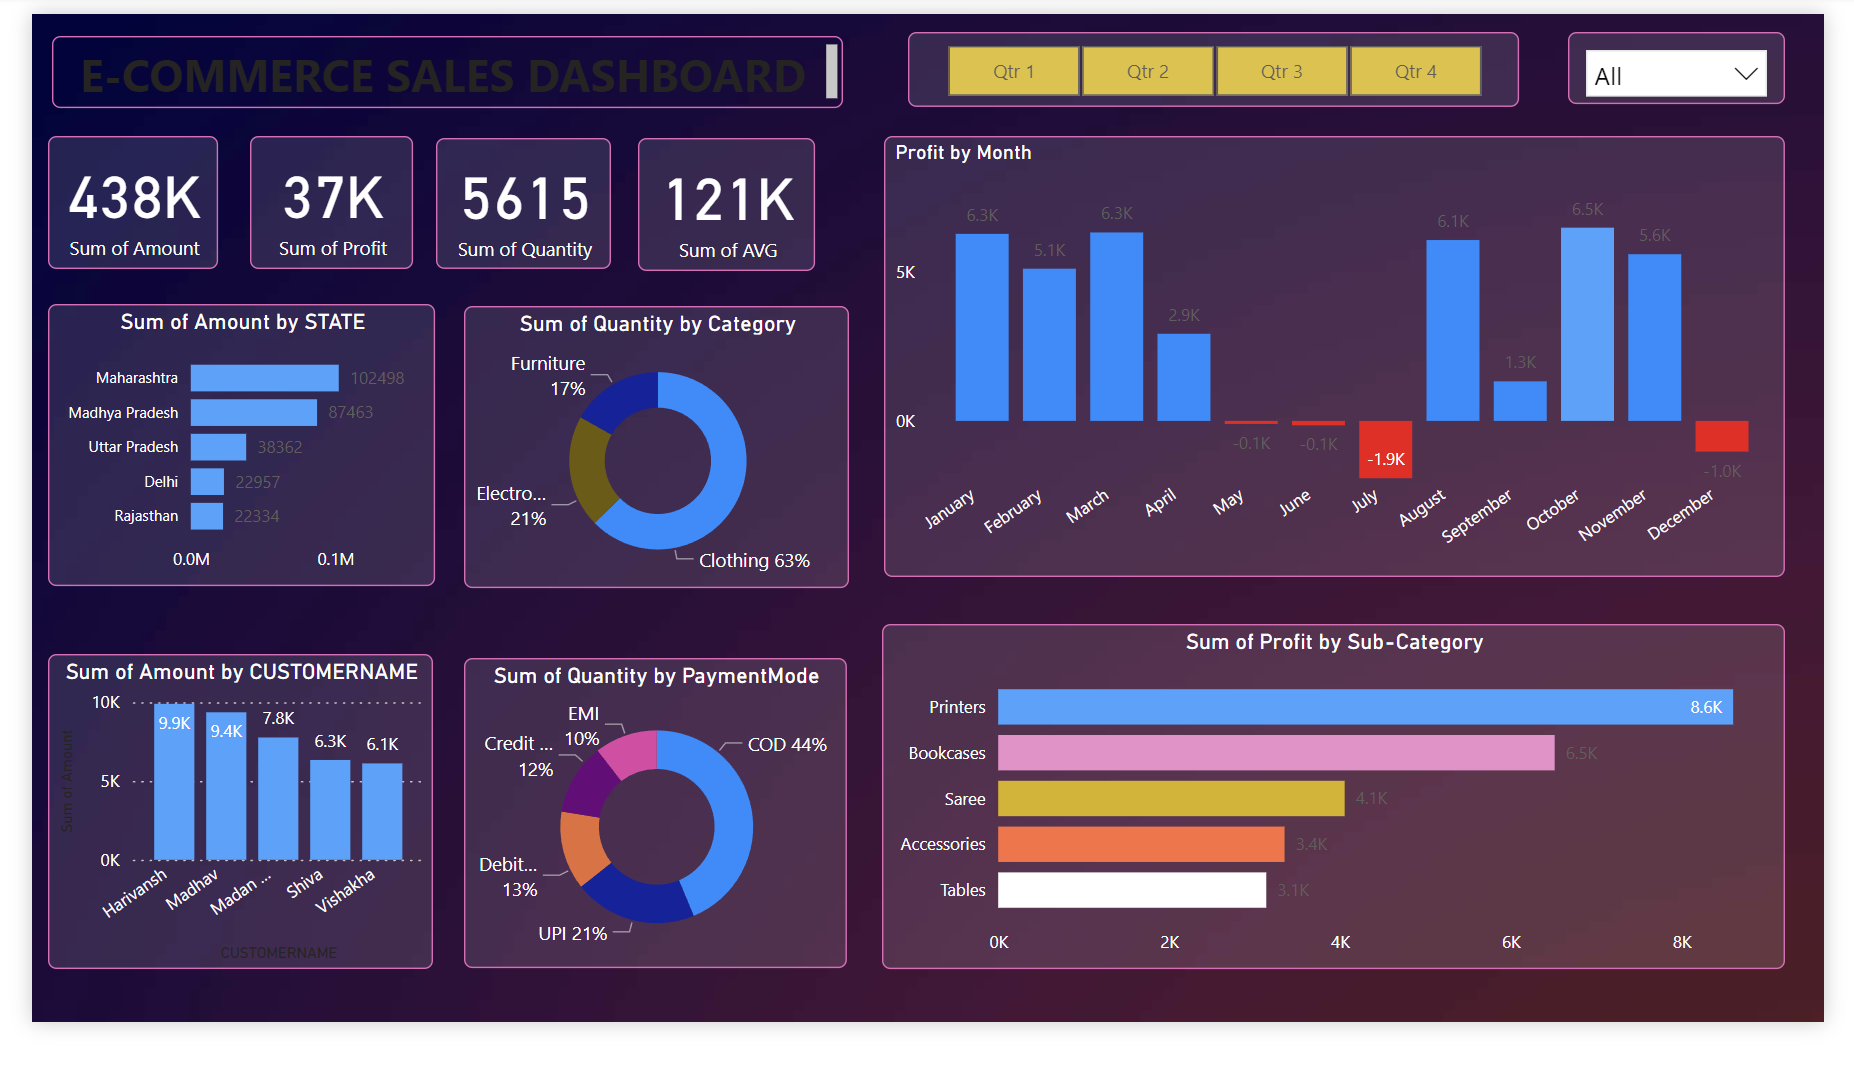

The dashboard page shown, as its layout file describes it:
{"tool":"powerbi","page":{"name":"Page 1","canvas":[1280,720],"ordinal":0},"visuals":[{"type":"textbox","box":[14,15,565,51.7],"z":0},{"type":"columnChart","title":" Profit by Month","fields":{"Category":["Orders.ORDERDATE.Variation.Date Hierarchy.Month"],"Y":["Details.Profit"]},"box":[608.3,86.7,643.3,315],"z":1000},{"type":"barChart","fields":{"Y":["Details.Profit"],"Category":["Details.Sub-Category"]},"box":[606.7,435,645,246.7],"z":2000},{"type":"donutChart","fields":{"Category":["Details.Category"],"Y":["Details.Quantity"]},"box":[308.3,208.3,275,201.7],"z":3000},{"type":"donutChart","fields":{"Y":["Details.Quantity"],"Category":["Details.PaymentMode"]},"box":[308.3,460,273.3,221.7],"z":4000},{"type":"card","fields":{"Values":["Details.Amount"]},"box":[11.7,86.7,121.7,95],"z":5000},{"type":"card","fields":{"Values":["Details.Profit"]},"box":[155,86.7,116.7,95],"z":6000},{"type":"card","fields":{"Values":["Details.Quantity"]},"box":[288.3,88.3,125,93.3],"z":7000},{"type":"card","fields":{"Values":["Details.AVG"]},"box":[433.3,88.3,126.7,95],"z":8000},{"type":"barChart","fields":{"Y":["Details.Amount"],"Category":["Orders.STATE"]},"box":[11.7,206.7,276.7,201.7],"z":9000},{"type":"columnChart","fields":{"Category":["Orders.CUSTOMERNAME"],"Y":["Details.Amount"]},"box":[11.7,456.7,275,225],"z":10000},{"type":"slicer","fields":{"Values":["Orders.ORDERDATE.Variation.Date Hierarchy.Quarter"]},"box":[625,13.3,436.7,53.3],"z":11000},{"type":"slicer","fields":{"Values":["Orders.STATE"]},"box":[1096.7,13.3,155,51.7],"z":12000}]}

Visuals, with their boxes on the page's 1280x720 design canvas (x1, y1, x2, y2). These are canvas units, not pixel positions in the 1854x1073 screenshot, which may show the page scaled, cropped or inside an application window:
textbox: [x1=14, y1=15, x2=579, y2=67]
" Profit by Month" columnChart: [x1=608, y1=87, x2=1252, y2=402]
barChart - Details.Profit x Details.Sub-Category: [x1=607, y1=435, x2=1252, y2=682]
donutChart - Details.Category x Details.Quantity: [x1=308, y1=208, x2=583, y2=410]
donutChart - Details.Quantity x Details.PaymentMode: [x1=308, y1=460, x2=582, y2=682]
card - Details.Amount: [x1=12, y1=87, x2=133, y2=182]
card - Details.Profit: [x1=155, y1=87, x2=272, y2=182]
card - Details.Quantity: [x1=288, y1=88, x2=413, y2=182]
card - Details.AVG: [x1=433, y1=88, x2=560, y2=183]
barChart - Details.Amount x Orders.STATE: [x1=12, y1=207, x2=288, y2=408]
columnChart - Orders.CUSTOMERNAME x Details.Amount: [x1=12, y1=457, x2=287, y2=682]
slicer - Orders.ORDERDATE.Variation.Date Hierarchy.Quarter: [x1=625, y1=13, x2=1062, y2=67]
slicer - Orders.STATE: [x1=1097, y1=13, x2=1252, y2=65]
